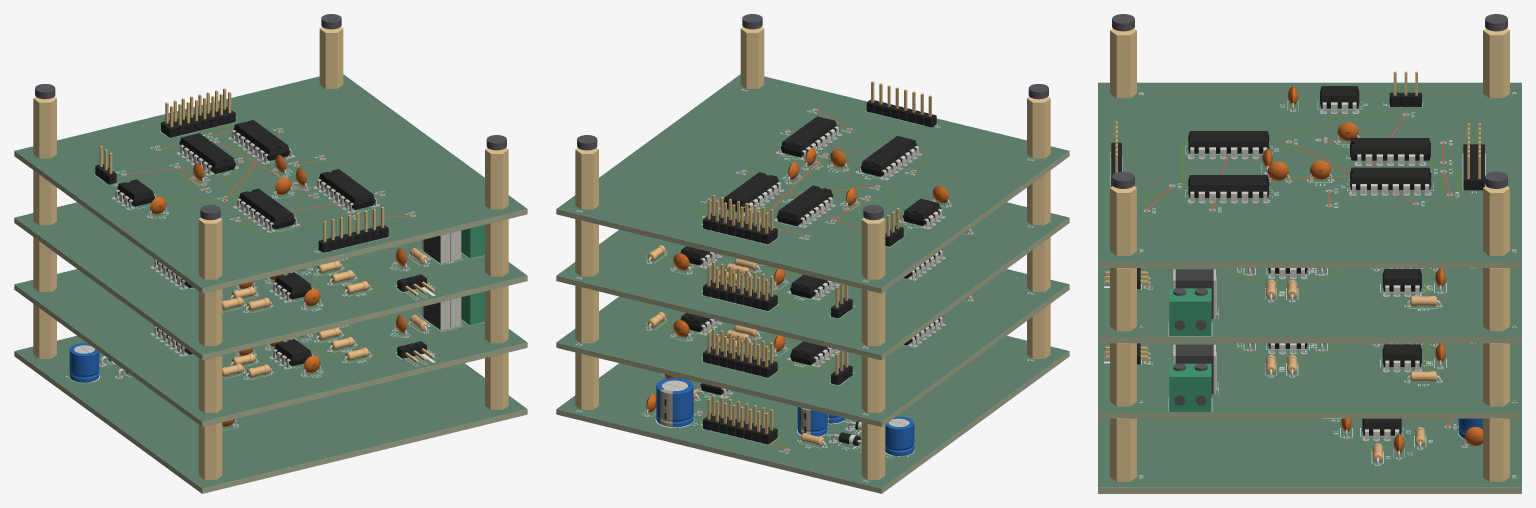
File: vinyl-adc-board.glb
3 views of the same model, side by side, from view 1: azimuth 30°, elevation 25°; view 2: azimuth 150°, elevation 25°; view 3: azimuth 270°, elevation 25° (orthographic). The views are drawn at different scales.
Parts seen in each view (by area): view 1: T4_=>[0:1:1:19], T4_=>[0:1:1:21], T1_=>[0:1:1:23], T1_=>[0:1:1:21], T3_=>[0:1:1:23], T2_=>[0:1:1:23], T2_=>[0:1:1:21], T3_=>[0:1:1:21], T4_=>[0:1:1:15], T4_=>[0:1:1:13], Standoff_T4_2, Standoff_T4_3 (+26 smaller); view 2: T4_=>[0:1:1:19], T4_=>[0:1:1:21], T3_=>[0:1:1:23], T2_=>[0:1:1:23], T3_=>[0:1:1:21], T2_=>[0:1:1:21], T1_=>[0:1:1:23], T1_=>[0:1:1:21], T1_=>[0:1:1:11], T2_=>[0:1:1:13], T4_=>[0:1:1:15], T3_=>[0:1:1:13] (+26 smaller); view 3: T4_=>[0:1:1:19], T4_=>[0:1:1:21], T1_=>[0:1:1:23], T1_=>[0:1:1:21], T3_=>[0:1:1:23], T2_=>[0:1:1:23], T3_=>[0:1:1:21], T2_=>[0:1:1:21], T4_=>[0:1:1:5].002, T4_=>[0:1:1:5].001, T4_=>[0:1:1:5], T4_=>[0:1:1:11] (+24 smaller).
Part boxes in pixels (bbox=[...]): T4_=>[0:1:1:19]: bbox=[14, 74, 526, 288]; T4_=>[0:1:1:21]: bbox=[14, 75, 527, 293]; T1_=>[0:1:1:23]: bbox=[14, 336, 527, 493]; T1_=>[0:1:1:21]: bbox=[15, 336, 526, 488]; T3_=>[0:1:1:23]: bbox=[14, 203, 527, 360]; T2_=>[0:1:1:23]: bbox=[14, 270, 527, 426]; T2_=>[0:1:1:21]: bbox=[15, 269, 527, 421]; T3_=>[0:1:1:21]: bbox=[14, 202, 526, 354]; T4_=>[0:1:1:15]: bbox=[161, 88, 235, 137]; T4_=>[0:1:1:13]: bbox=[318, 206, 388, 252]; Standoff_T4_2: bbox=[198, 218, 222, 279]; Standoff_T4_3: bbox=[319, 27, 343, 88]; T4_=>[0:1:1:19]: bbox=[557, 74, 1069, 288]; T4_=>[0:1:1:21]: bbox=[556, 75, 1069, 293]; T3_=>[0:1:1:23]: bbox=[556, 203, 1069, 360]; T2_=>[0:1:1:23]: bbox=[556, 270, 1069, 426]; T3_=>[0:1:1:21]: bbox=[557, 202, 1069, 354]; T2_=>[0:1:1:21]: bbox=[556, 269, 1068, 421]; T1_=>[0:1:1:23]: bbox=[556, 336, 1069, 493]; T1_=>[0:1:1:21]: bbox=[557, 336, 1068, 488]; T1_=>[0:1:1:11]: bbox=[703, 395, 777, 444]; T2_=>[0:1:1:13]: bbox=[703, 328, 777, 377]; T4_=>[0:1:1:15]: bbox=[703, 195, 777, 244]; T3_=>[0:1:1:13]: bbox=[703, 261, 777, 310]; T4_=>[0:1:1:19]: bbox=[1098, 82, 1521, 261]; T4_=>[0:1:1:21]: bbox=[1098, 83, 1521, 267]; T1_=>[0:1:1:23]: bbox=[1098, 419, 1521, 493]; T1_=>[0:1:1:21]: bbox=[1098, 418, 1521, 487]; T3_=>[0:1:1:23]: bbox=[1098, 268, 1521, 343]; T2_=>[0:1:1:23]: bbox=[1098, 344, 1521, 418]; T3_=>[0:1:1:21]: bbox=[1098, 268, 1521, 337]; T2_=>[0:1:1:21]: bbox=[1098, 343, 1521, 412]; T4_=>[0:1:1:5].002: bbox=[1350, 167, 1431, 194]; T4_=>[0:1:1:5].001: bbox=[1188, 175, 1269, 201]; T4_=>[0:1:1:5]: bbox=[1188, 131, 1269, 157]; T4_=>[0:1:1:11]: bbox=[1350, 138, 1430, 164].
Bounding box in the file's own units: 0.1 × 0.0815 × 0.1.
